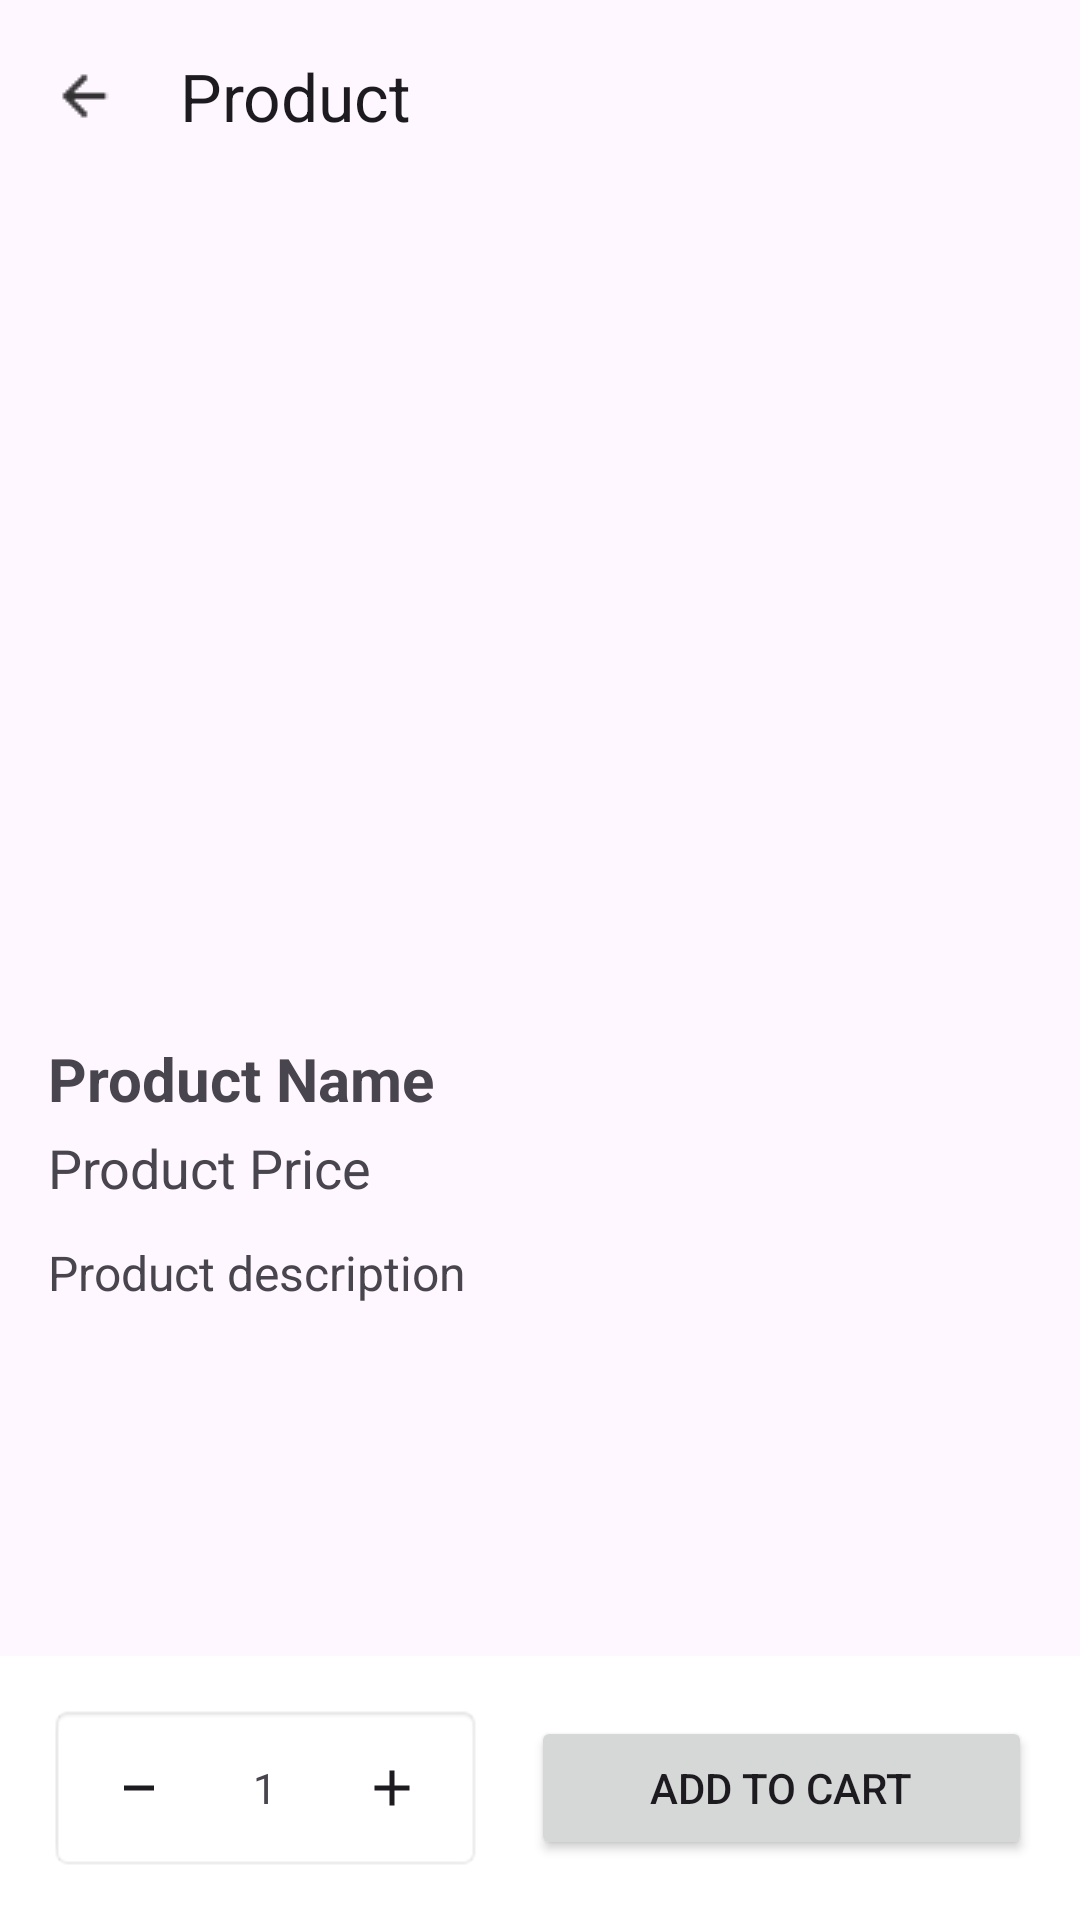

Named icons in this screenshot (1080w x 1920h) and their centers, (x=x, y=y):
minus: (x=139, y=1788)
